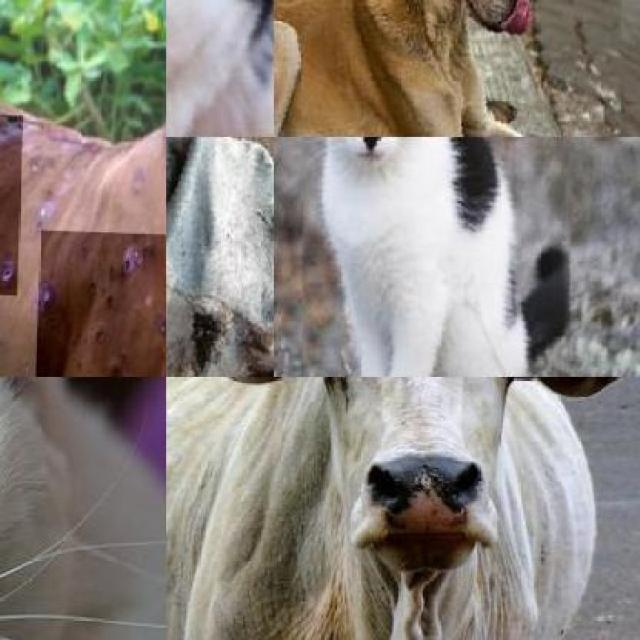cat: (274, 137, 640, 377), (0, 377, 166, 640), (166, 0, 274, 137)
cow: (167, 377, 636, 640), (0, 0, 166, 377), (166, 137, 274, 377)
dog: (274, 0, 640, 137)
injured: (34, 229, 166, 377), (166, 243, 274, 377), (0, 112, 23, 296)
